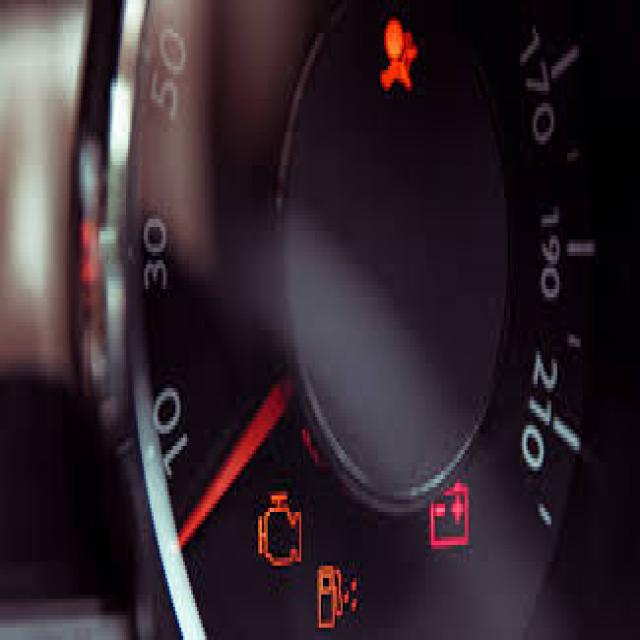kontrolka: (252, 484, 305, 577), (428, 476, 471, 556), (374, 11, 416, 91), (311, 558, 345, 630)
